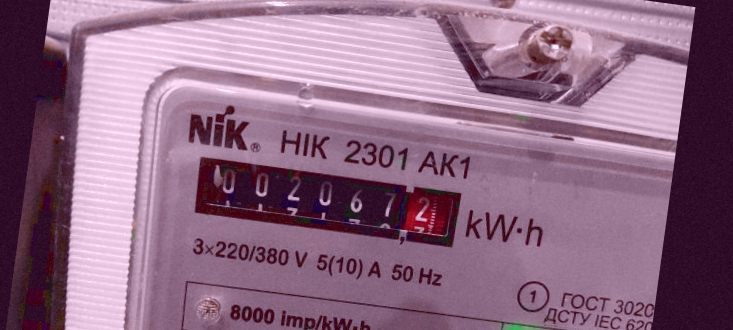0: (217, 165, 239, 196), (313, 176, 335, 206), (251, 168, 272, 199)
2: (411, 193, 433, 224), (283, 172, 304, 203)
6: (345, 184, 367, 215)
7: (378, 188, 398, 220)
screen: (177, 142, 477, 262)
